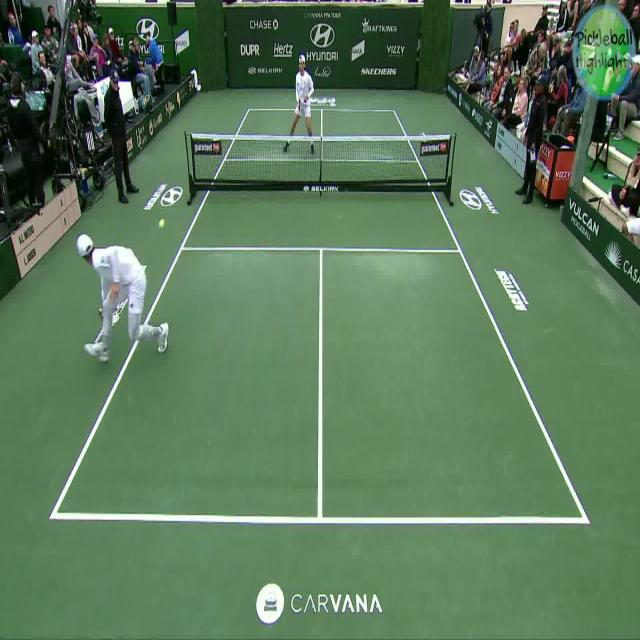ball: (154, 209, 169, 234)
